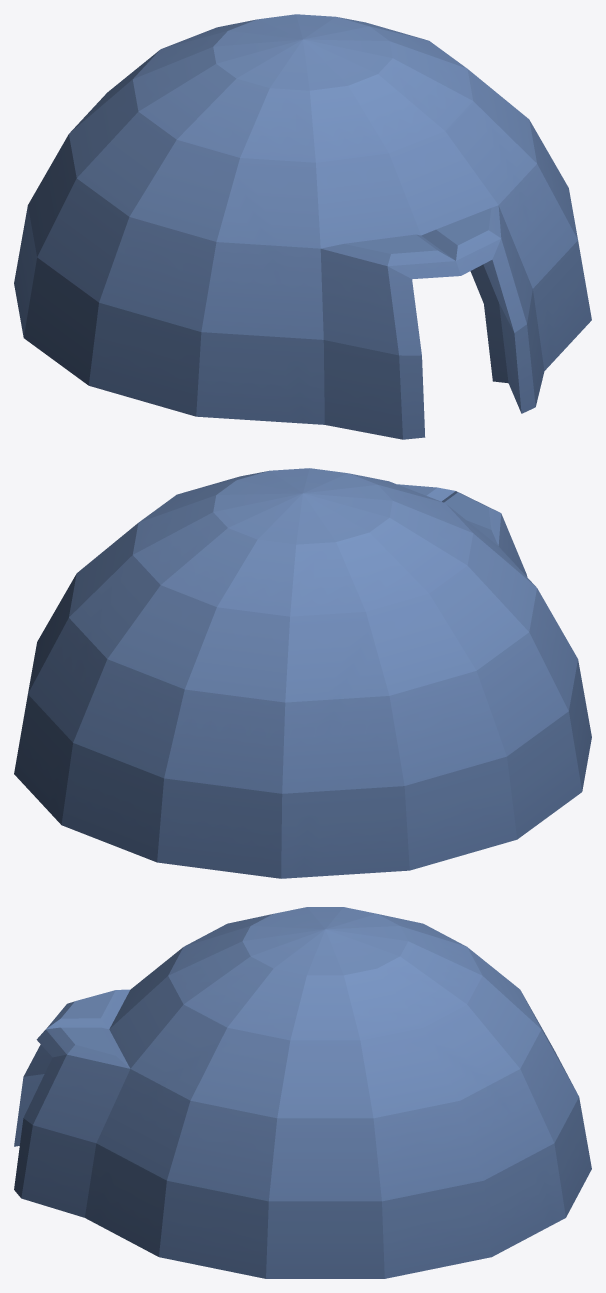
The model's file is SM_Igloo1.fbx.
The picture shows the model from 3 angles, top to bottom: view 1: azimuth 30°, elevation 25°; view 2: azimuth 150°, elevation 25°; view 3: azimuth 270°, elevation 25°; orthographic projection. The views are drawn at different scales.
Parts seen in each view (by area): view 1: SM_Igloo1; view 2: SM_Igloo1; view 3: SM_Igloo1.
Boxes of the visible parts, bbox=[...] form: SM_Igloo1: bbox=[14, 14, 591, 439]; SM_Igloo1: bbox=[14, 468, 591, 878]; SM_Igloo1: bbox=[14, 907, 591, 1278].
Size of the model in its own units: 209 by 107 by 232.
